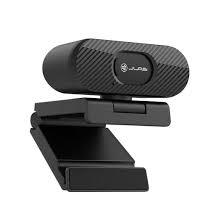webcam: (31, 39, 188, 190)
